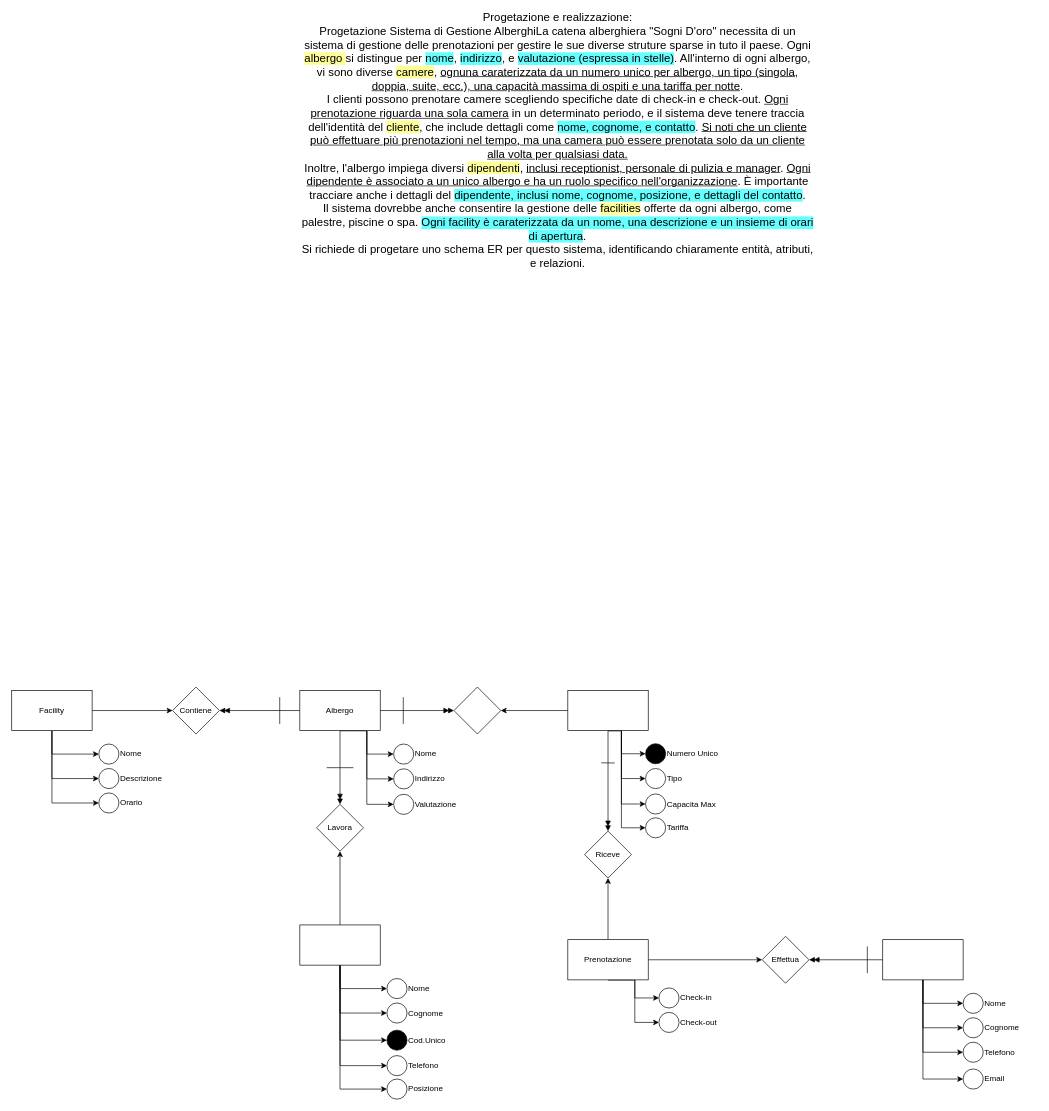
Image size: 1049x1111. Some labels were removed from this diagram. Each missing label, with the centre of its shape:
"Camera" belongs at (x=607, y=710).
"Cliente" belongs at (x=922, y=959).
"Dipendente" belongs at (x=339, y=944).
"Possiede" belongs at (x=477, y=710).
